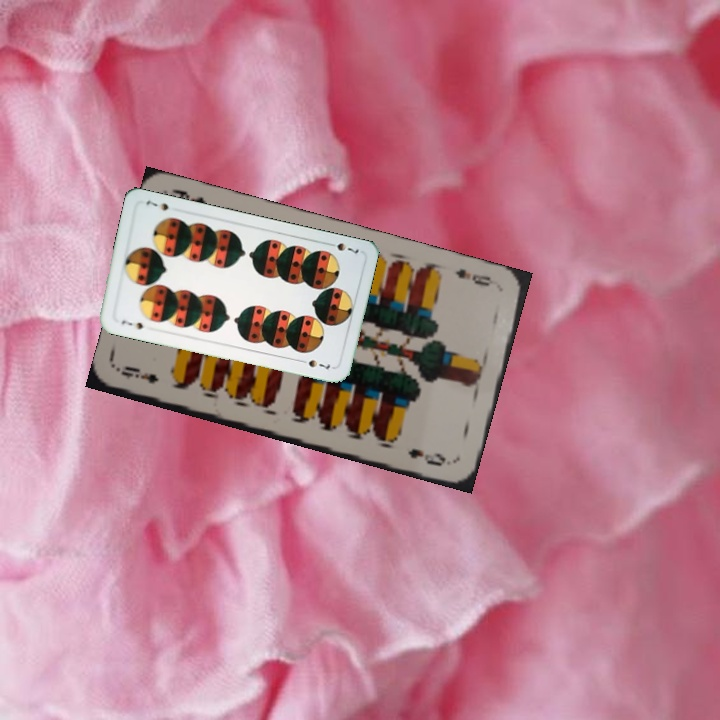E9: (117, 362, 161, 386), (451, 264, 493, 289)
S7: (323, 238, 362, 256), (117, 316, 146, 332)
